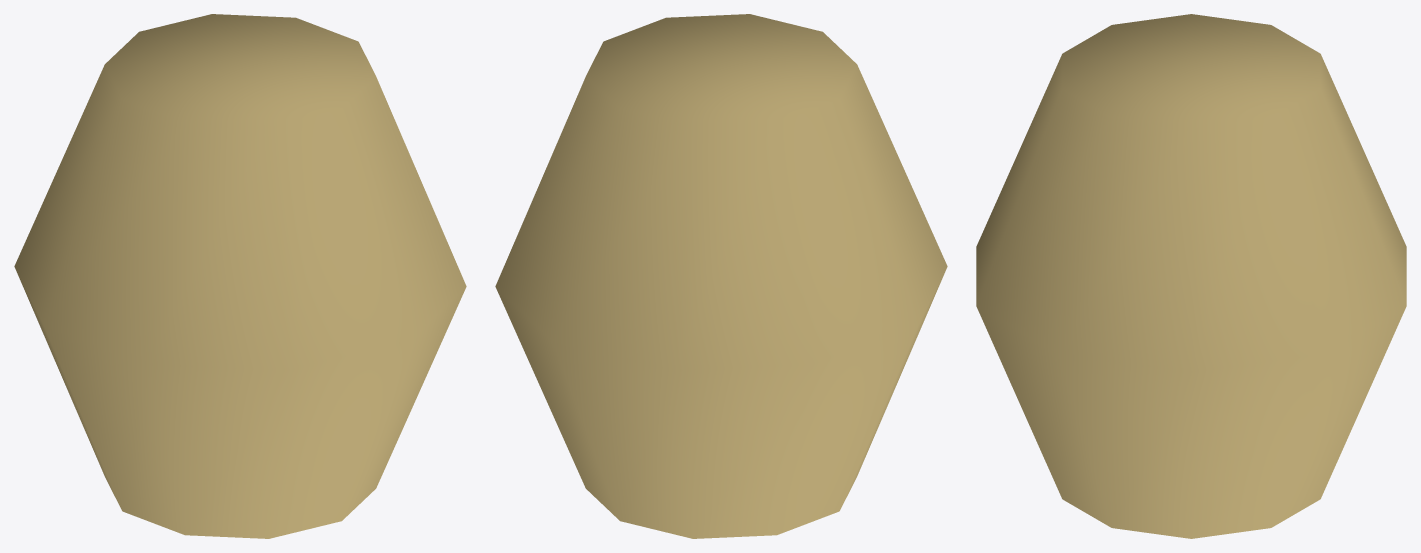
File: 04_seed.glb
3 views of the same model, side by side, from view 1: azimuth 30°, elevation 25°; view 2: azimuth 150°, elevation 25°; view 3: azimuth 270°, elevation 25° (orthographic).
Visible parts, largest first — view 1: green_04_seed; view 2: green_04_seed; view 3: green_04_seed.
Part boxes in pixels (x1,y1,x2,y2): green_04_seed: (14,14,466,538); green_04_seed: (495,14,947,538); green_04_seed: (976,14,1406,538).
Bounding box in the file's own units: 0.2 × 0.202 × 0.1902.
